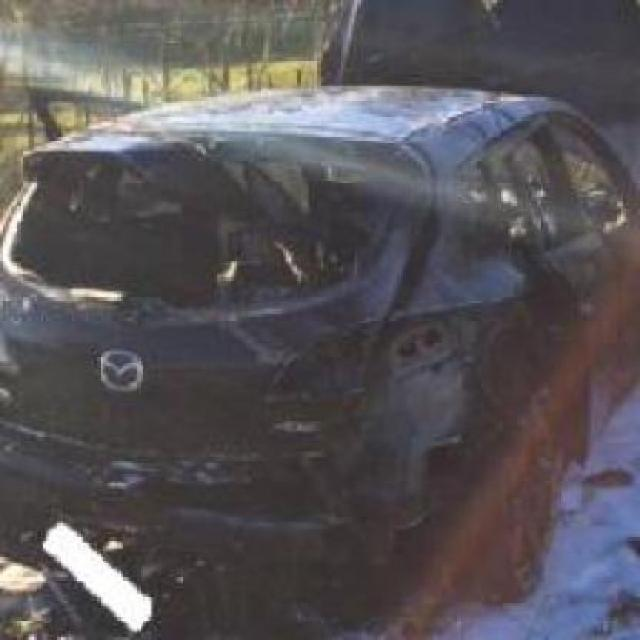damaged-rear-bumper: (0, 447, 412, 606)
damaged-rear-window: (9, 139, 420, 327)
